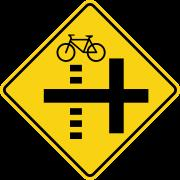Cycle Crossing: (12, 11, 164, 173)
